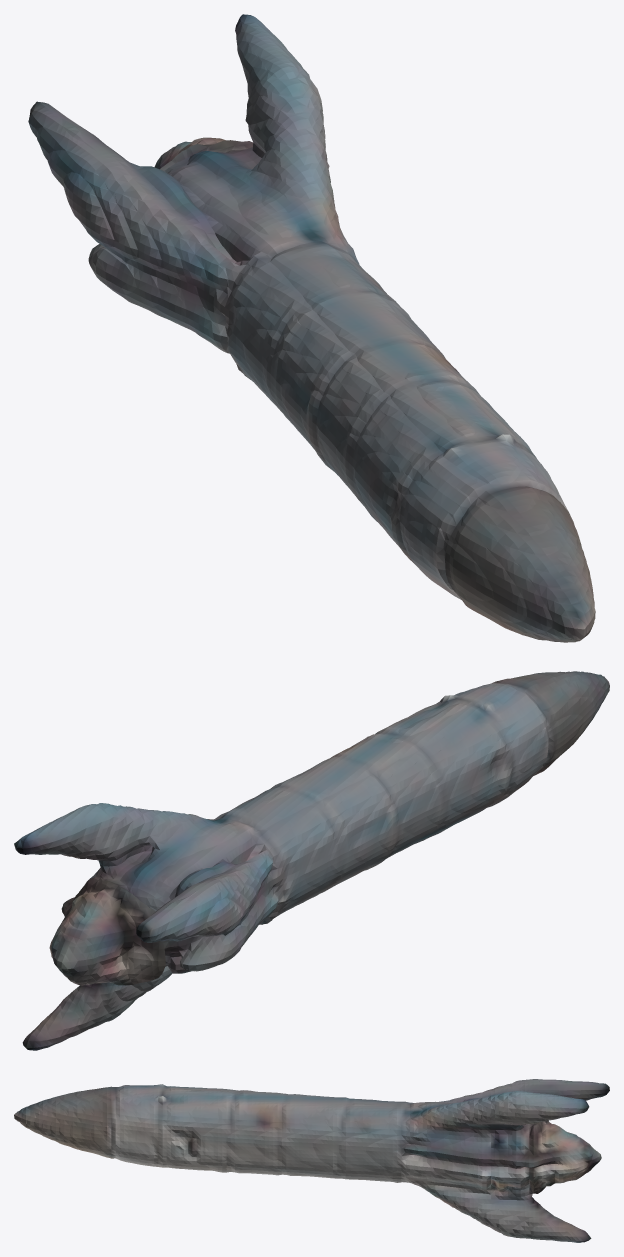
The picture shows the model from 3 angles, top to bottom: view 1: azimuth 30°, elevation 25°; view 2: azimuth 150°, elevation 25°; view 3: azimuth 270°, elevation 25°; orthographic projection. The views are drawn at different scales.
Visible parts, largest first — view 1: world; view 2: world; view 3: world.
Boxes of the visible parts, x1,y1,x2,y2 form: world: (28,14,595,642); world: (14,671,609,1050); world: (14,1079,609,1242).
Size of the model in its own units: 0.2583 by 0.2602 by 0.9537.
